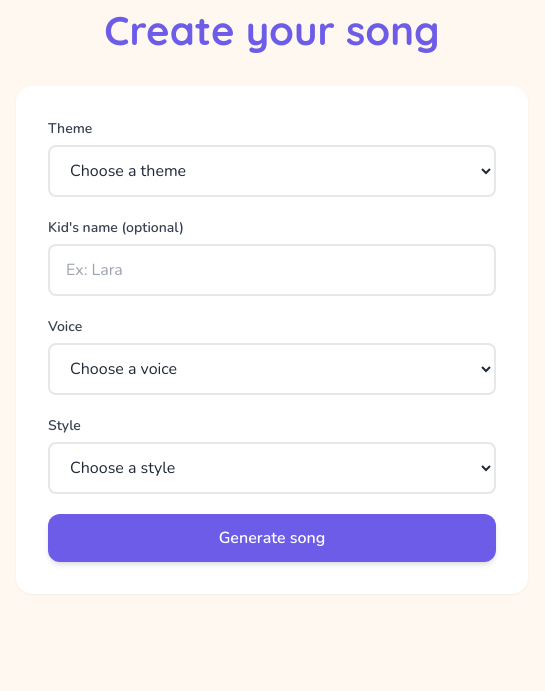
Test: CreatePage › shows friendly message when backend returns 404
The width and height of the screenshot is (545, 691).
Click the button "Generate song": (272, 538) [48, 514, 496, 562]
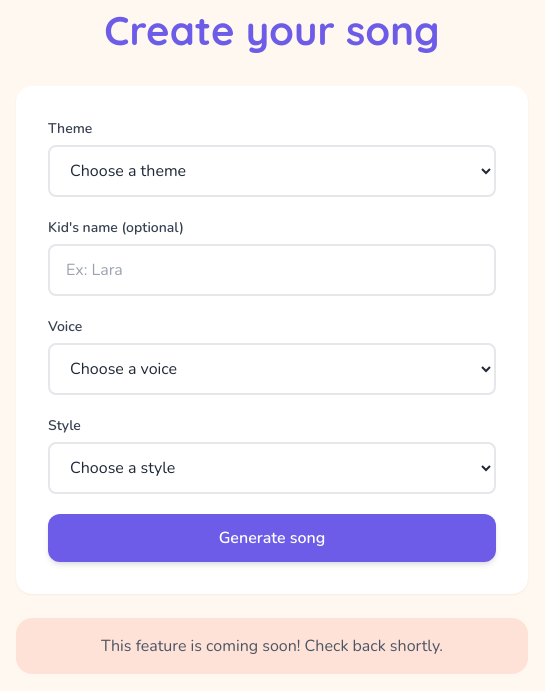
Expected: the text "This feature is coming soon! Check back shortly." is shown, [16, 618, 528, 674]
